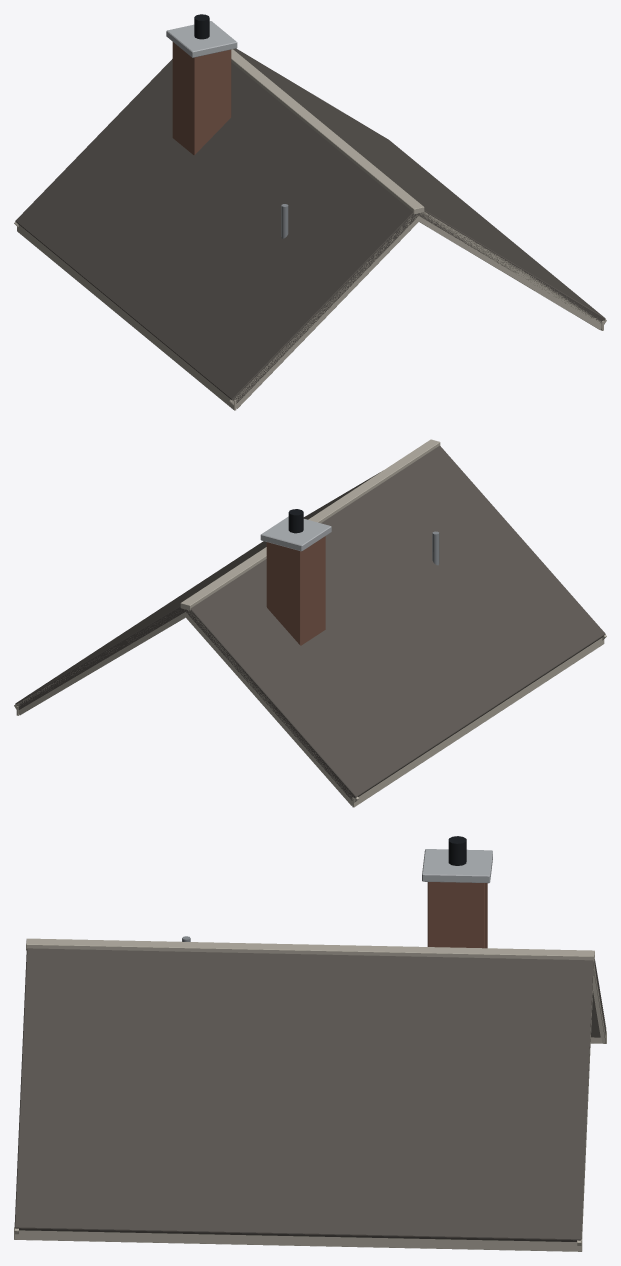
The model's file is house6_roof.glb.
The picture shows the model from 3 angles, top to bottom: view 1: azimuth 30°, elevation 25°; view 2: azimuth 150°, elevation 25°; view 3: azimuth 270°, elevation 25°; orthographic projection. The views are drawn at different scales.
Visible parts, largest first — view 1: house6_roof; view 2: house6_roof; view 3: house6_roof.
Part boxes in pixels (left/top/right/bottom): house6_roof: left=14, top=14, right=606, bottom=410; house6_roof: left=14, top=439, right=606, bottom=807; house6_roof: left=14, top=836, right=606, bottom=1251.
Size of the model in its own units: 7.41 by 4.21 by 8.25.
